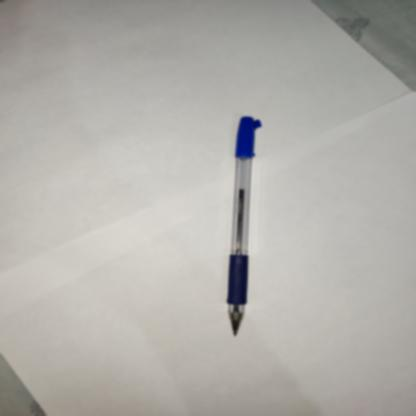Pen: (229, 105, 262, 349)
